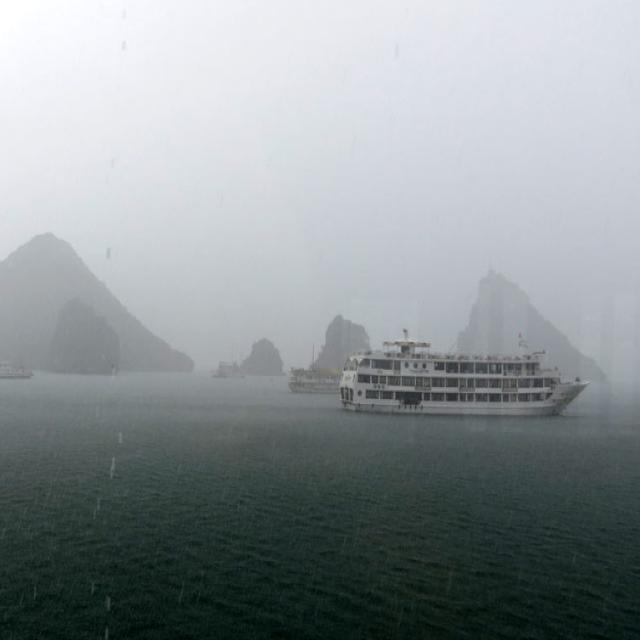passenger ship: (324, 342, 578, 415)
